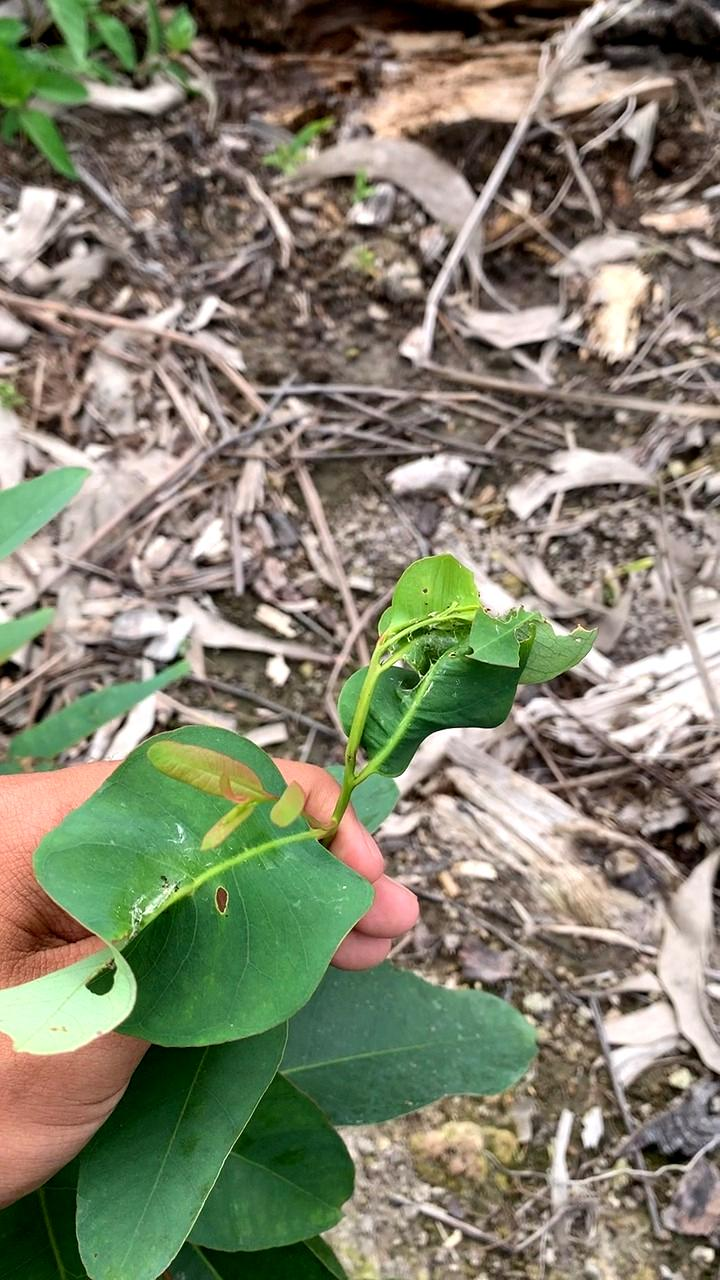Leaf Roller - Leaf: (331, 531, 591, 767)
